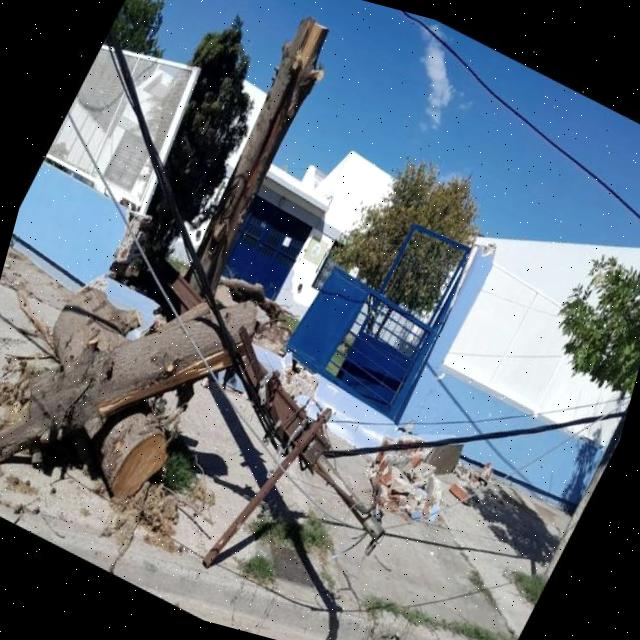Broken Pole: (0, 6, 383, 573)
